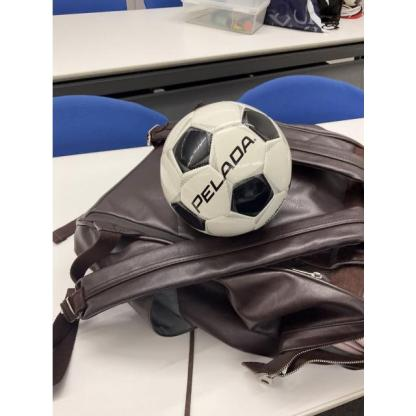ball: (159, 102, 289, 236)
